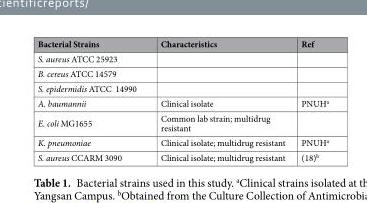table: (36, 37, 327, 163)
table column: (147, 37, 292, 163), (36, 37, 147, 163), (292, 37, 327, 163)
table column header: (36, 37, 327, 50)
table projected row header: (36, 50, 327, 65), (36, 65, 327, 80), (36, 80, 327, 95)
table row: (36, 110, 327, 134), (36, 50, 327, 65), (36, 65, 327, 80), (36, 80, 327, 95), (36, 95, 327, 110), (36, 134, 327, 149), (36, 149, 327, 163), (36, 37, 327, 50)
